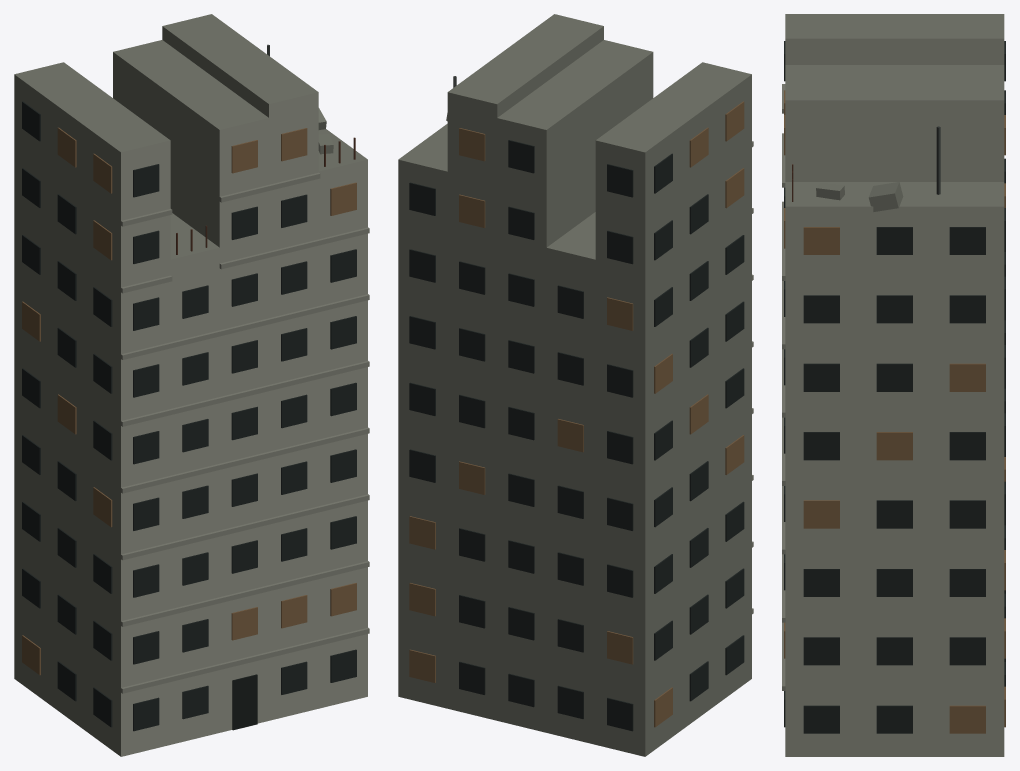
File: ct_ruin_d.glb
The picture shows the model from 3 angles, left to right: view 1: azimuth 30°, elevation 25°; view 2: azimuth 150°, elevation 25°; view 3: azimuth 270°, elevation 25°; orthographic projection. The views are drawn at different scales.
Visible parts, largest first — view 1: ct_ruin_d; view 2: ct_ruin_d; view 3: ct_ruin_d.
Part boxes in pixels (left/top/right/bottom): ct_ruin_d: left=14, top=14, right=369, bottom=756; ct_ruin_d: left=398, top=14, right=753, bottom=756; ct_ruin_d: left=782, top=14, right=1005, bottom=756.
Bounding box in the file's own units: 12.24 × 28.65 × 9.19.
